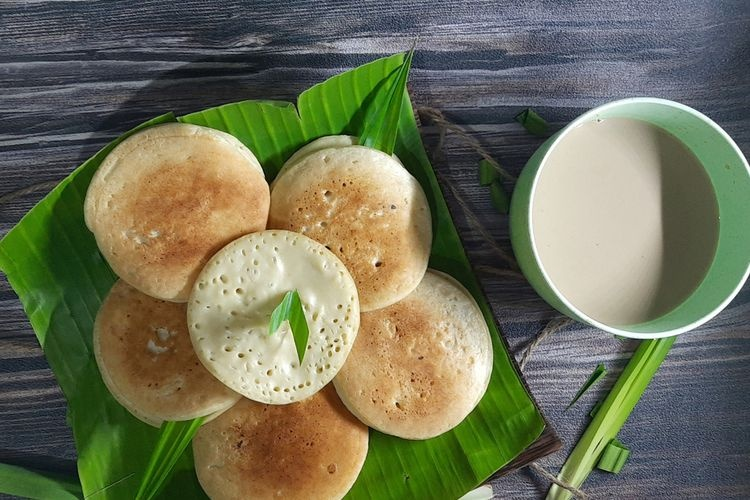srabi: (172, 224, 356, 418)
